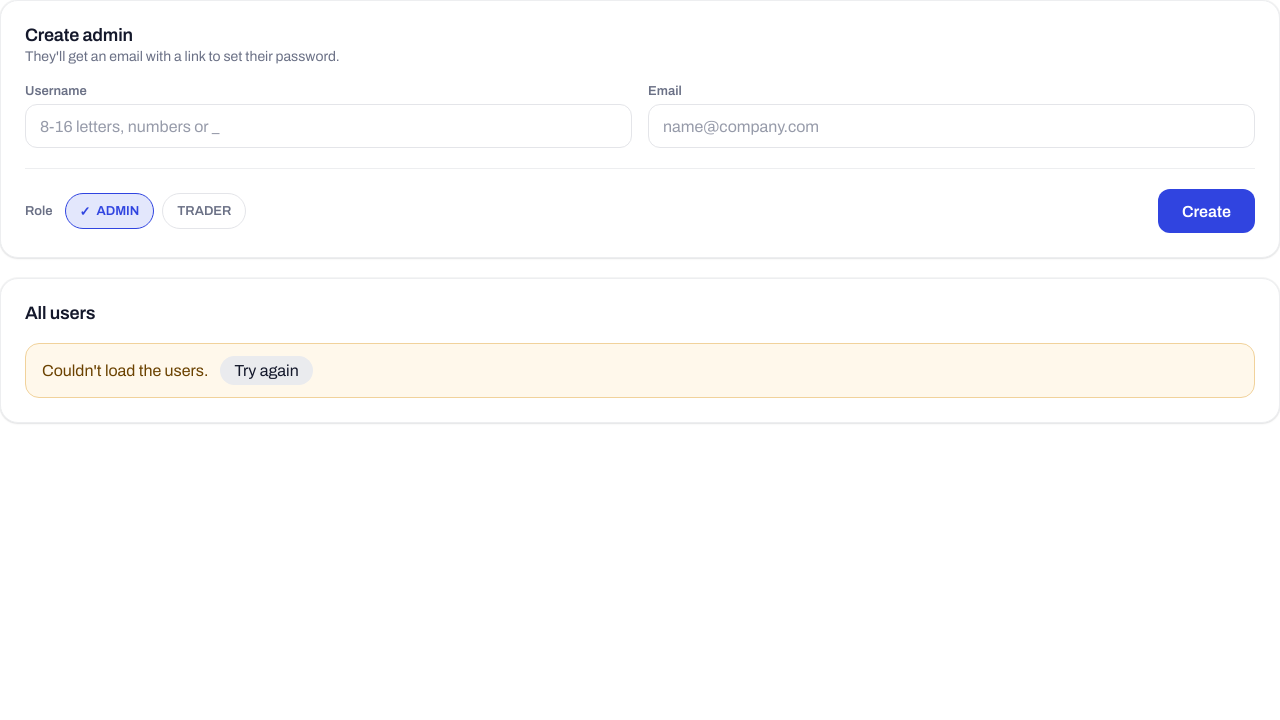
Test: AdminUsersComponent › the list › shows an error that can be retried
Click the button with class "retry": (267, 370) top-left (220, 356), bottom-right (313, 385)
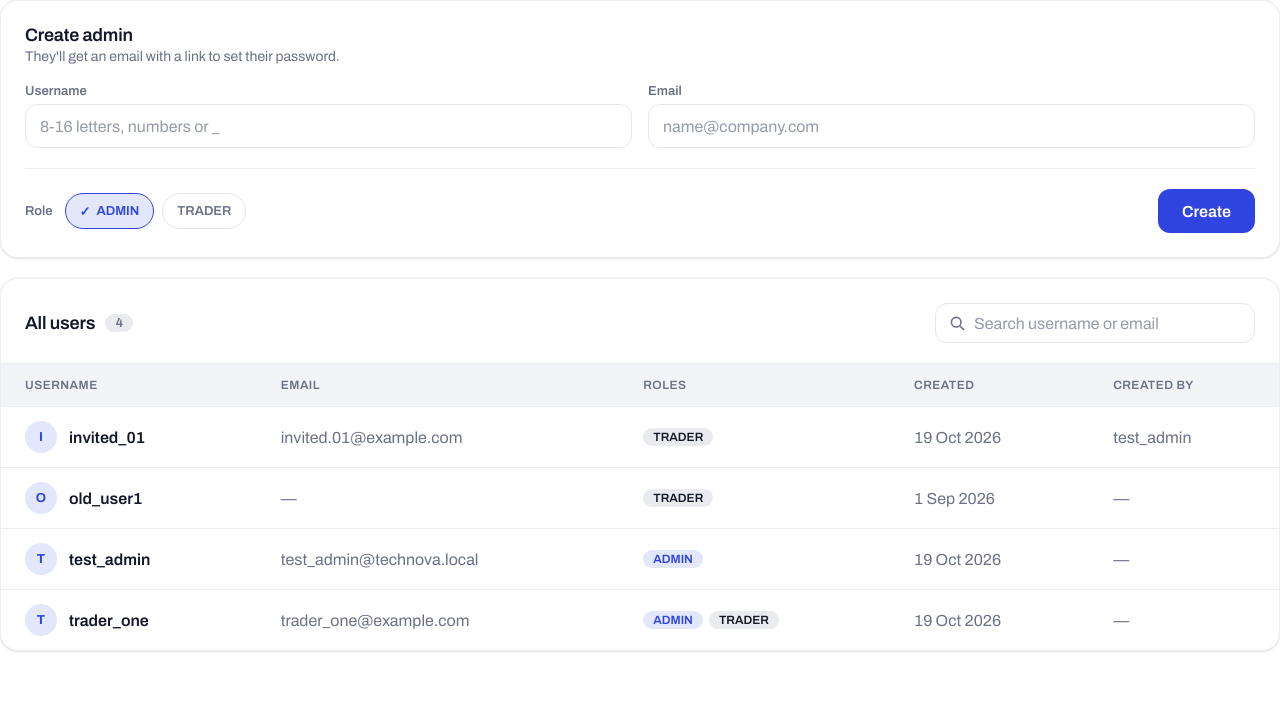
Check: the message "Couldn't load the users. Try again" is gone
